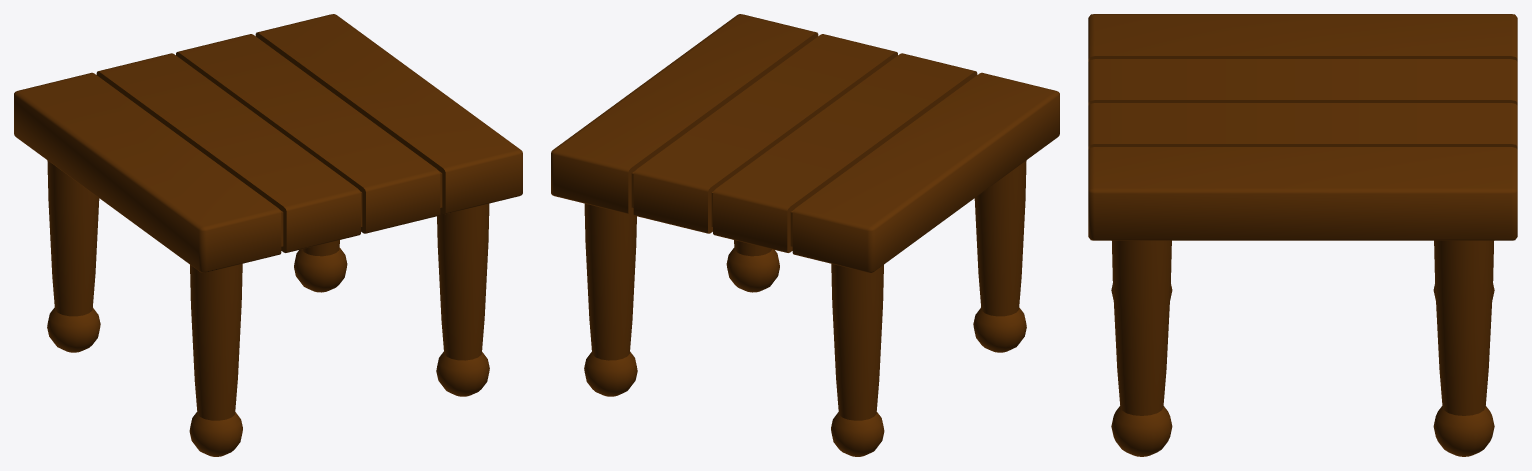
The model's file is tisch.fbx.
3 views of the same model, side by side, from view 1: azimuth 30°, elevation 25°; view 2: azimuth 150°, elevation 25°; view 3: azimuth 270°, elevation 25° (orthographic). The views are drawn at different scales.
Visible parts, largest first — view 1: Sphere; view 2: Sphere; view 3: Sphere.
Boxes of the visible parts, x1=… form: Sphere: x1=14, y1=14, x2=522, y2=456; Sphere: x1=551, y1=14, x2=1059, y2=456; Sphere: x1=1088, y1=14, x2=1517, y2=456.
Size of the model in its own units: 197 by 146 by 200.
